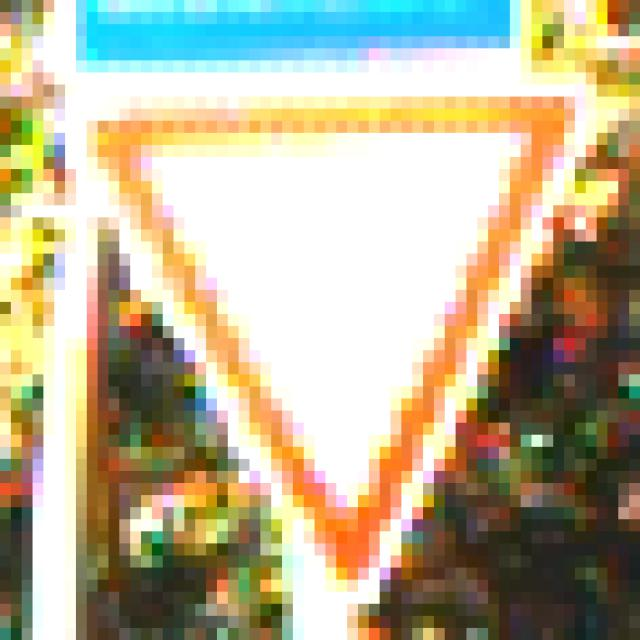Give Way: (66, 74, 587, 581)
